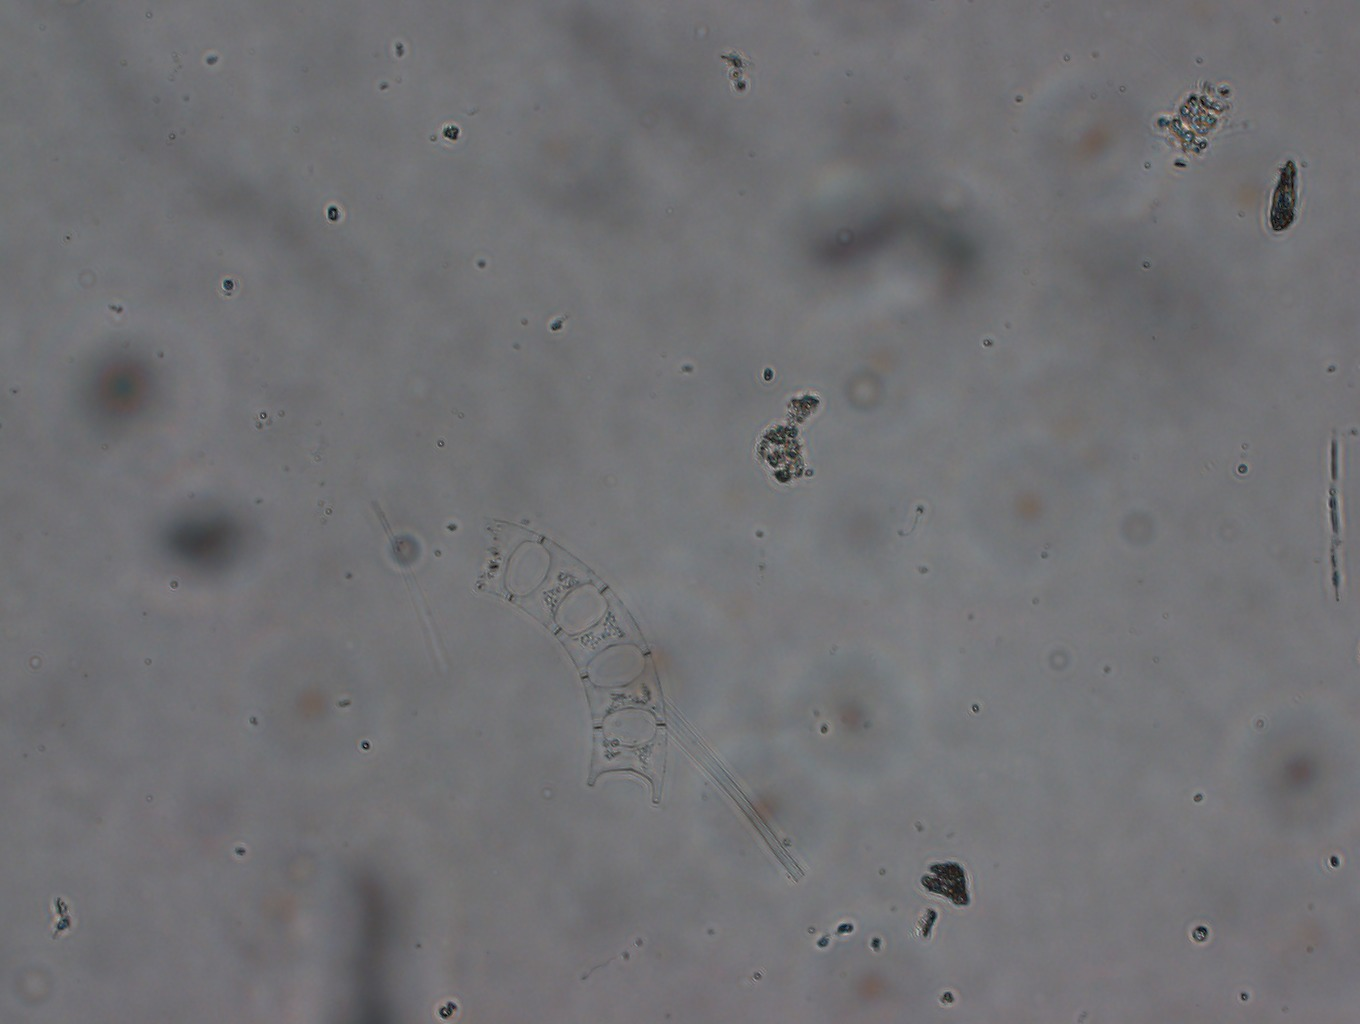eucampia: (473, 515, 669, 806)
